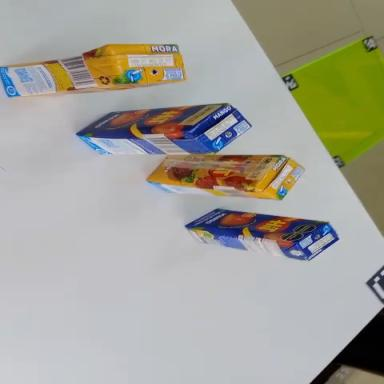HIT-MANGO: (183, 205, 340, 264), (77, 103, 250, 154)
HIT-MORA: (0, 37, 187, 101), (147, 154, 304, 200)
cara_F: (184, 204, 329, 247), (13, 73, 183, 104), (75, 104, 228, 135), (147, 155, 282, 187)
